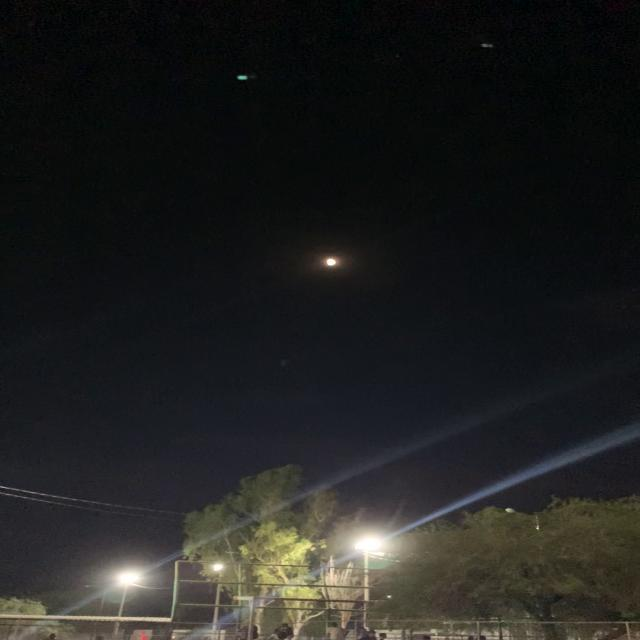moon: (311, 240, 348, 279)
